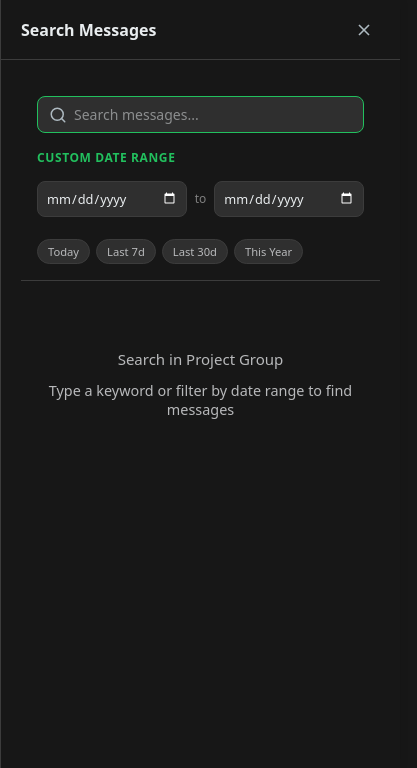
ChatSearchSidebar › does not let an out-of-order search response overwrite newer results (F7-01)
In the field with placeholder "Search messages...": (200, 114) [37,96,364,133], type "a"
Wait 350 ms
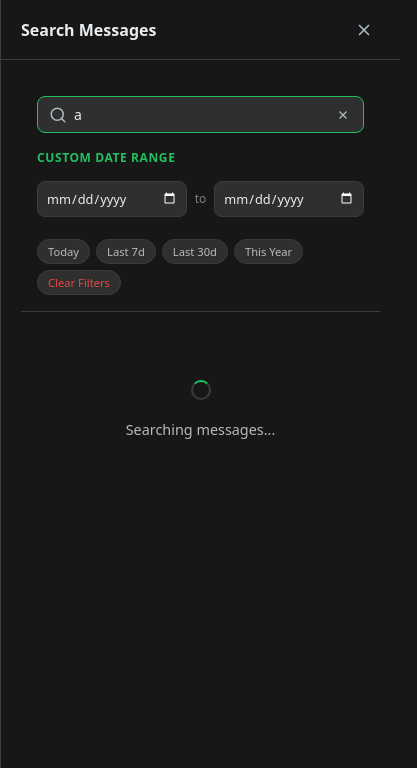
Replace the text in the field with placeholder "Search messages..." with "ab": (200, 114) [37,96,364,133]
Wait 350 ms
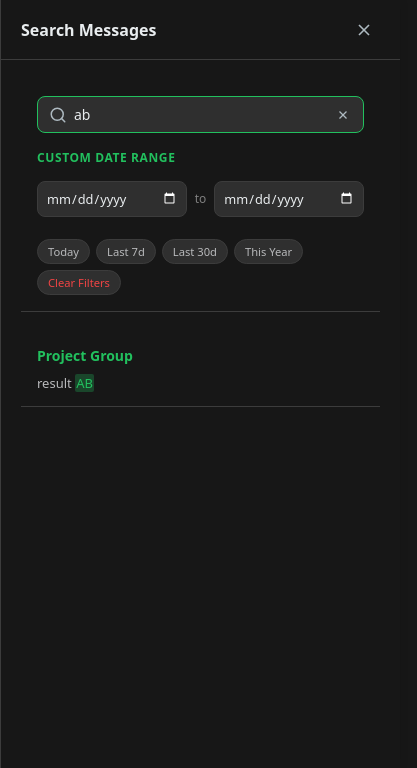
Expected: the element with class "search-result-snippet" reads "result AB", [37,374,94,392]
